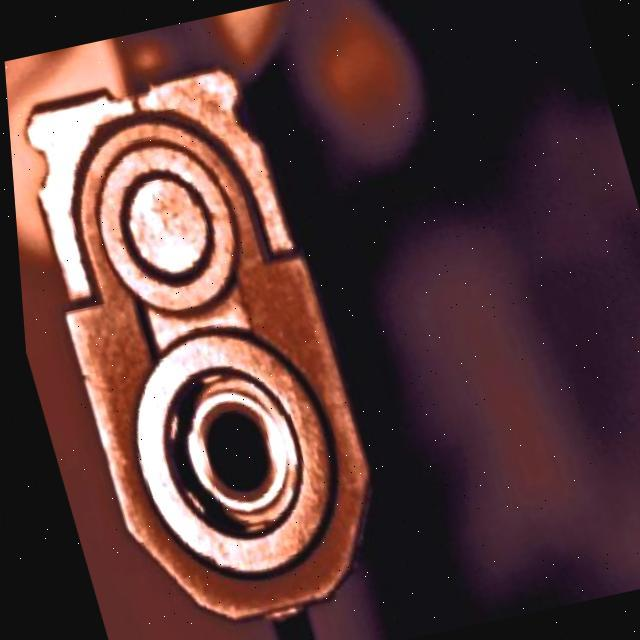gun: (4, 57, 402, 640)
